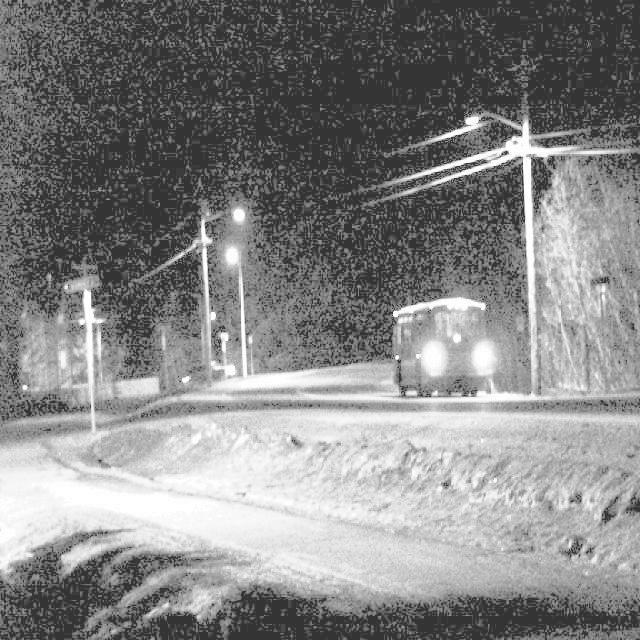Bus: (373, 277, 504, 399)
